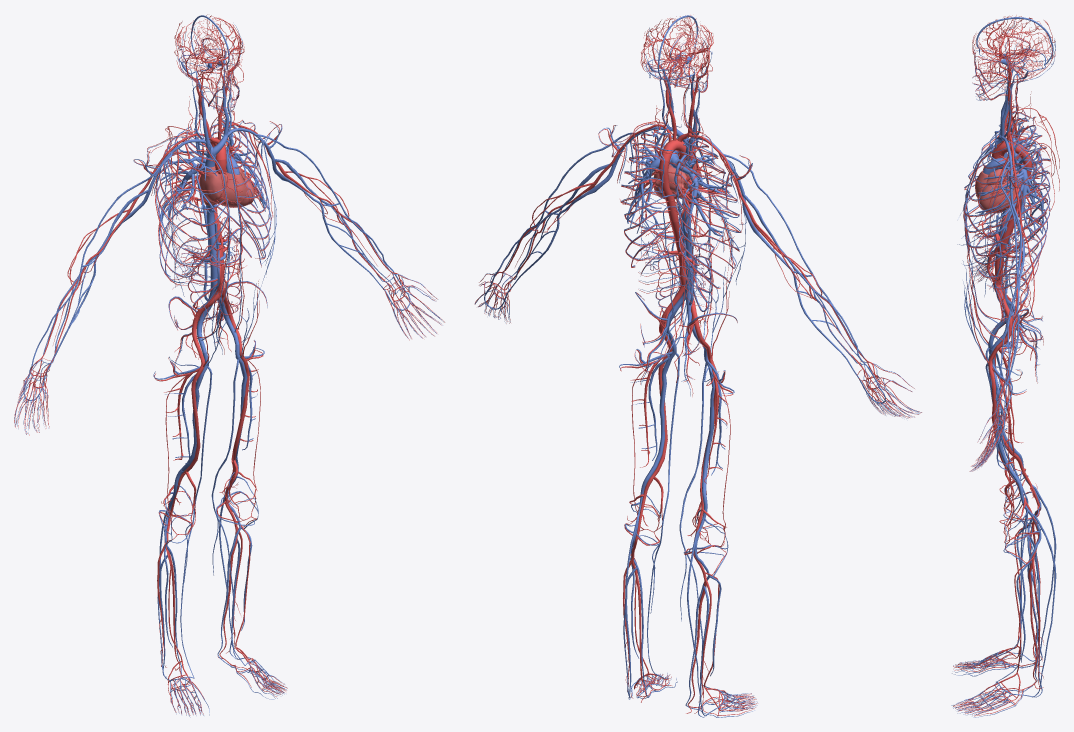
Rendered from astronaut_cardiovascular.glb.
The picture shows the model from 3 angles, left to right: view 1: azimuth 30°, elevation 25°; view 2: azimuth 150°, elevation 25°; view 3: azimuth 270°, elevation 25°; orthographic projection. The views are drawn at different scales.
Parts seen in each view (by area): view 1: VESSEL_ArmVeins_R, VESSEL_ArmVeins_L, VESSEL_LegVeins_R, VESSEL_LegVeins_L, VESSEL_AzygosVeins, VESSEL_TrunkVeins_L, VESSEL_IntracranialArteries, VESSEL_TrunkArteries_R, VESSEL_PulmonaryArtery_R, VESSEL_VisceralArteries, VESSEL_SaphenousVein_L, VESSEL_LegArteries_R (+15 smaller); view 2: VESSEL_ArmVeins_R, VESSEL_ArmVeins_L, VESSEL_LegVeins_R, VESSEL_AzygosVeins, VESSEL_IntracranialArteries, VESSEL_LegVeins_L, VESSEL_TrunkVeins_L, VESSEL_TrunkArteries_R, VESSEL_PulmonaryArtery_R, VESSEL_SaphenousVein_L, VESSEL_TrunkArteries_L, VESSEL_SaphenousVein_R (+14 smaller); view 3: VESSEL_ArmVeins_L, VESSEL_TrunkVeins_L, VESSEL_LegVeins_L, VESSEL_IntracranialArteries, VESSEL_LegVeins_R, VESSEL_PulmonaryArtery_L, VESSEL_TrunkArteries_L, VESSEL_AzygosVeins, VESSEL_LegArteries_L, VESSEL_Tibial_L, VESSEL_FootArteries_L, VESSEL_SaphenousVein_L (+38 smaller).
Part boxes in pixels (x1,y1,x2,y2): VESSEL_ArmVeins_R: (14, 152, 213, 434); VESSEL_ArmVeins_L: (253, 123, 443, 338); VESSEL_LegVeins_R: (153, 293, 228, 717); VESSEL_LegVeins_L: (216, 283, 286, 699); VESSEL_AzygosVeins: (156, 126, 228, 301); VESSEL_TrunkVeins_L: (194, 28, 271, 354); VESSEL_IntracranialArteries: (175, 16, 244, 80); VESSEL_TrunkArteries_R: (155, 133, 226, 289); VESSEL_PulmonaryArtery_R: (160, 128, 217, 225); VESSEL_VisceralArteries: (184, 220, 246, 357); VESSEL_SaphenousVein_L: (211, 359, 244, 665); VESSEL_LegArteries_R: (154, 294, 209, 545); VESSEL_ArmVeins_R: (723, 154, 921, 418); VESSEL_ArmVeins_L: (475, 125, 669, 322); VESSEL_LegVeins_R: (683, 267, 757, 717); VESSEL_AzygosVeins: (640, 135, 740, 313); VESSEL_IntracranialArteries: (642, 15, 713, 87); VESSEL_LegVeins_L: (619, 263, 696, 699); VESSEL_TrunkVeins_L: (621, 57, 698, 384); VESSEL_TrunkArteries_R: (663, 152, 741, 306); VESSEL_PulmonaryArtery_R: (672, 137, 732, 246); VESSEL_SaphenousVein_L: (623, 353, 679, 697); VESSEL_TrunkArteries_L: (620, 144, 682, 293); VESSEL_SaphenousVein_R: (679, 363, 715, 715); VESSEL_ArmVeins_L: (957, 160, 1034, 471); VESSEL_TrunkVeins_L: (964, 43, 1055, 381); VESSEL_LegVeins_L: (951, 281, 1042, 717); VESSEL_IntracranialArteries: (973, 15, 1052, 80); VESSEL_LegVeins_R: (952, 260, 1042, 676); VESSEL_PulmonaryArtery_L: (975, 133, 1043, 240); VESSEL_TrunkArteries_L: (964, 142, 1050, 301); VESSEL_AzygosVeins: (964, 117, 1049, 296); VESSEL_LegArteries_L: (966, 281, 1039, 563); VESSEL_Tibial_L: (1014, 557, 1043, 689); VESSEL_FootArteries_L: (953, 672, 1043, 716); VESSEL_SaphenousVein_L: (985, 363, 1056, 697).
Bounding box in the file's own units: 1.17 × 1.74 × 0.2545.
